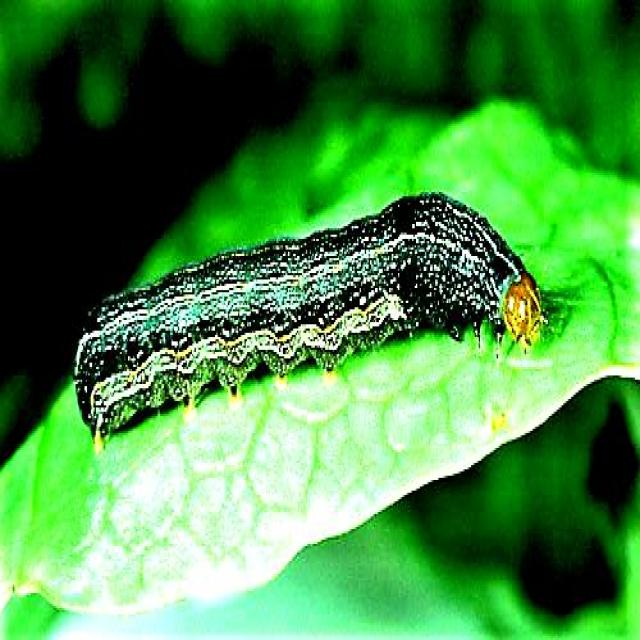armyworm: (71, 188, 546, 454)
